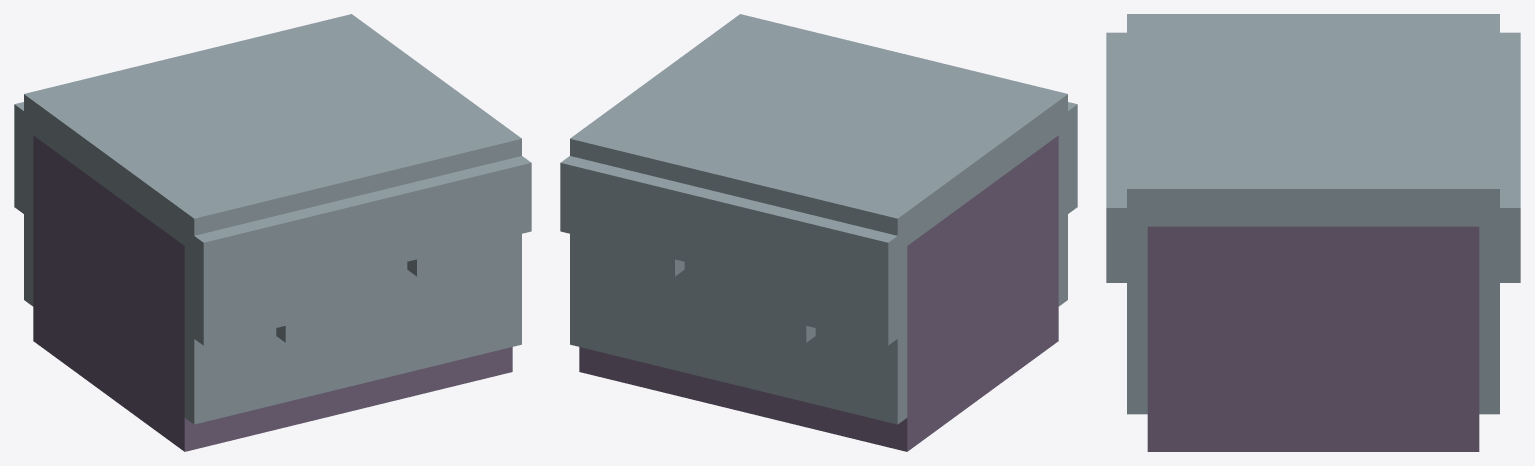
Rendered from Floors-19.obj.
3 renders of one model, left to right at view 1: azimuth 30°, elevation 25°; view 2: azimuth 150°, elevation 25°; view 3: azimuth 270°, elevation 25°, orthographic. The views are drawn at different scales.
Bounding box in the file's own units: 2 × 1.4 × 2.
Materials: 1 (1 with a texture image).
